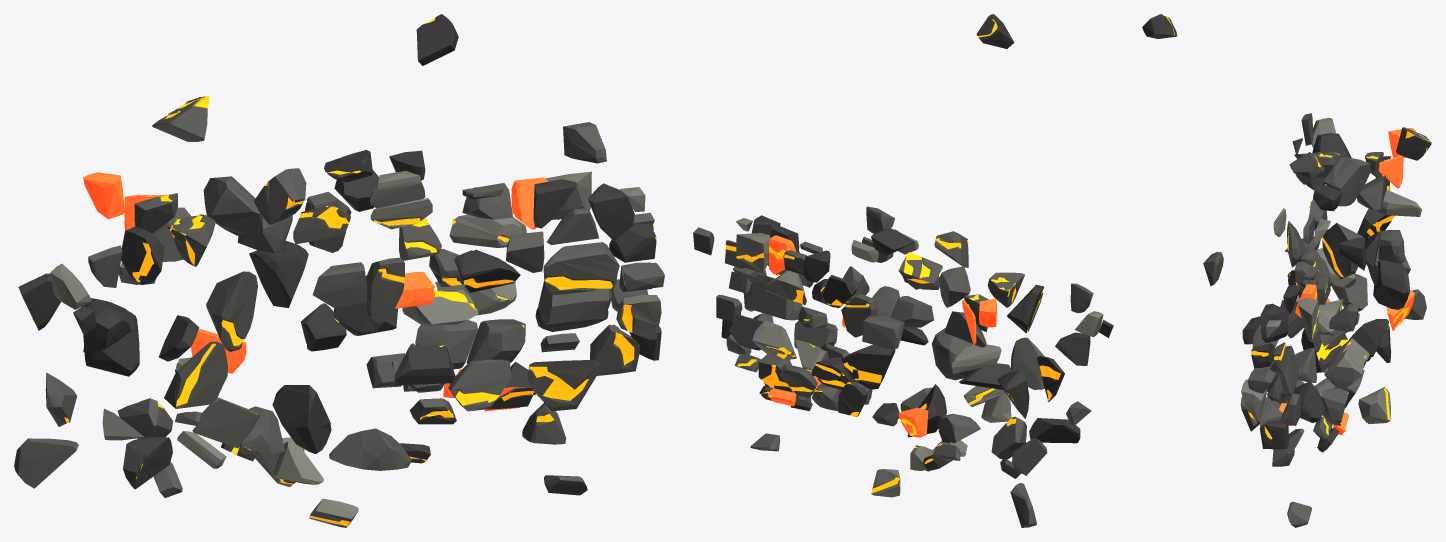
The model's file is Tresh_1_Model.fbx.
3 views of the same model, side by side, from view 1: azimuth 30°, elevation 25°; view 2: azimuth 150°, elevation 25°; view 3: azimuth 270°, elevation 25° (orthographic). The views are drawn at different scales.
Parts seen in each view (by area): view 1: Tresh_1; view 2: Tresh_1; view 3: Tresh_1.
Part boxes in pixels (box(x1,y1,x2,y2)): Tresh_1: box(14, 14, 664, 527); Tresh_1: box(693, 14, 1113, 527); Tresh_1: box(1142, 14, 1431, 527).
Bounding box in the file's own units: 12.76 × 13.01 × 7.89.
